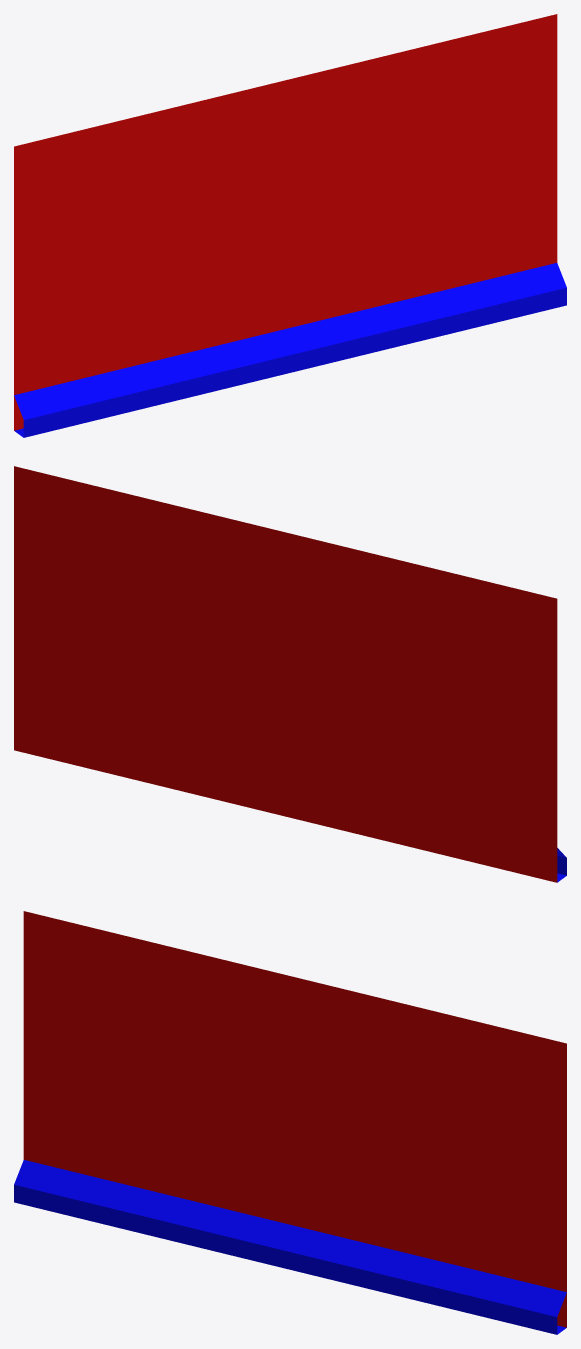
3 renders of one model, top to bottom at view 1: azimuth 30°, elevation 25°; view 2: azimuth 150°, elevation 25°; view 3: azimuth 330°, elevation 25°, orthographic.
Parts seen in each view (by area): view 1: None_G_G_A_E_G_G_A_E_None; view 2: None_G_G_A_E_G_G_A_E_None; view 3: None_G_G_A_E_G_G_A_E_None.
Part boxes in pixels (<box>): None_G_G_A_E_G_G_A_E_None: <box>14,14,566,437</box>; None_G_G_A_E_G_G_A_E_None: <box>14,466,566,882</box>; None_G_G_A_E_G_G_A_E_None: <box>14,911,566,1334</box>.
Size of the model in its own units: 100 by 50 by 3.12.
